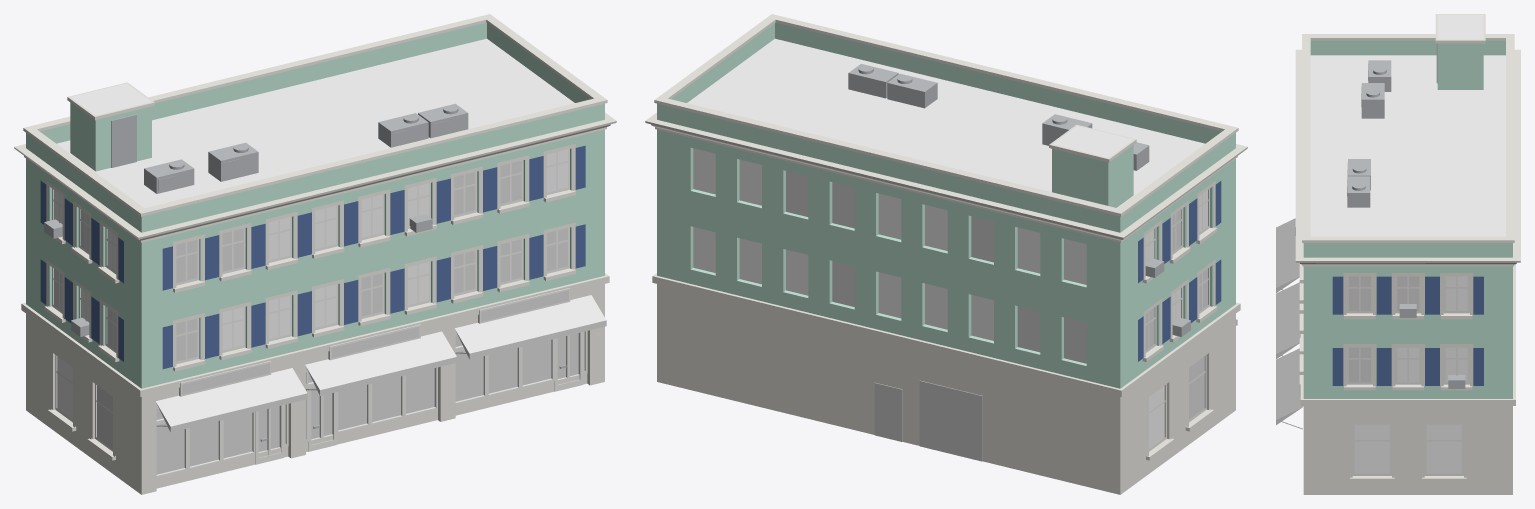
Rendered from midtown_w74f2s.glb.
3 renders of one model, left to right at view 1: azimuth 30°, elevation 25°; view 2: azimuth 150°, elevation 25°; view 3: azimuth 270°, elevation 25°, orthographic. The views are drawn at different scales.
Visible parts, largest first — view 1: midtown_w74f2s_Walls, midtown_w74f2s_Trim, midtown_w74f2s_Roof, midtown_w74f2s_WindowsLit, midtown_w74f2s_Frames, midtown_w74f2s_Accent, midtown_w74f2s_Awning, midtown_w74f2s_Glass, midtown_w74f2s_Details, midtown_w74f2s_Sign; view 2: midtown_w74f2s_Walls, midtown_w74f2s_Trim, midtown_w74f2s_Roof, midtown_w74f2s_Glass, midtown_w74f2s_WindowsLit, midtown_w74f2s_Doors, midtown_w74f2s_Details, midtown_w74f2s_Accent, midtown_w74f2s_Frames; view 3: midtown_w74f2s_Roof, midtown_w74f2s_Trim, midtown_w74f2s_Walls, midtown_w74f2s_Glass, midtown_w74f2s_Awning, midtown_w74f2s_Accent, midtown_w74f2s_Frames, midtown_w74f2s_Details, midtown_w74f2s_WindowsLit.
Boxes of the visible parts, bbox=[...] form: midtown_w74f2s_Walls: bbox=[26, 22, 604, 388]; midtown_w74f2s_Trim: bbox=[14, 14, 616, 494]; midtown_w74f2s_Roof: bbox=[57, 38, 574, 207]; midtown_w74f2s_WindowsLit: bbox=[54, 160, 578, 474]; midtown_w74f2s_Frames: bbox=[52, 149, 587, 478]; midtown_w74f2s_Accent: bbox=[40, 145, 585, 369]; midtown_w74f2s_Awning: bbox=[155, 295, 606, 432]; midtown_w74f2s_Glass: bbox=[54, 149, 567, 419]; midtown_w74f2s_Details: bbox=[44, 103, 566, 441]; midtown_w74f2s_Sign: bbox=[182, 290, 568, 394]; midtown_w74f2s_Walls: bbox=[657, 22, 1235, 388]; midtown_w74f2s_Trim: bbox=[645, 14, 1247, 494]; midtown_w74f2s_Roof: bbox=[687, 38, 1204, 207]; midtown_w74f2s_Glass: bbox=[693, 148, 1207, 448]; midtown_w74f2s_WindowsLit: bbox=[786, 171, 1207, 419]; midtown_w74f2s_Doors: bbox=[874, 380, 982, 461]; midtown_w74f2s_Details: bbox=[848, 64, 1190, 336]; midtown_w74f2s_Accent: bbox=[1138, 181, 1221, 361]; midtown_w74f2s_Frames: bbox=[1145, 188, 1209, 451]; midtown_w74f2s_Roof: bbox=[1310, 14, 1505, 236]; midtown_w74f2s_Trim: bbox=[1295, 14, 1520, 494]; midtown_w74f2s_Walls: bbox=[1303, 40, 1512, 398]; midtown_w74f2s_Glass: bbox=[1354, 276, 1467, 473]; midtown_w74f2s_Awning: bbox=[1276, 218, 1303, 424]; midtown_w74f2s_Accent: bbox=[1332, 276, 1483, 385]; midtown_w74f2s_Frames: bbox=[1299, 276, 1469, 475]; midtown_w74f2s_Details: bbox=[1281, 43, 1465, 429]; midtown_w74f2s_WindowsLit: bbox=[1349, 276, 1419, 382].
Bounding box in the file's own units: 76.6 × 48.54 × 37.4.
